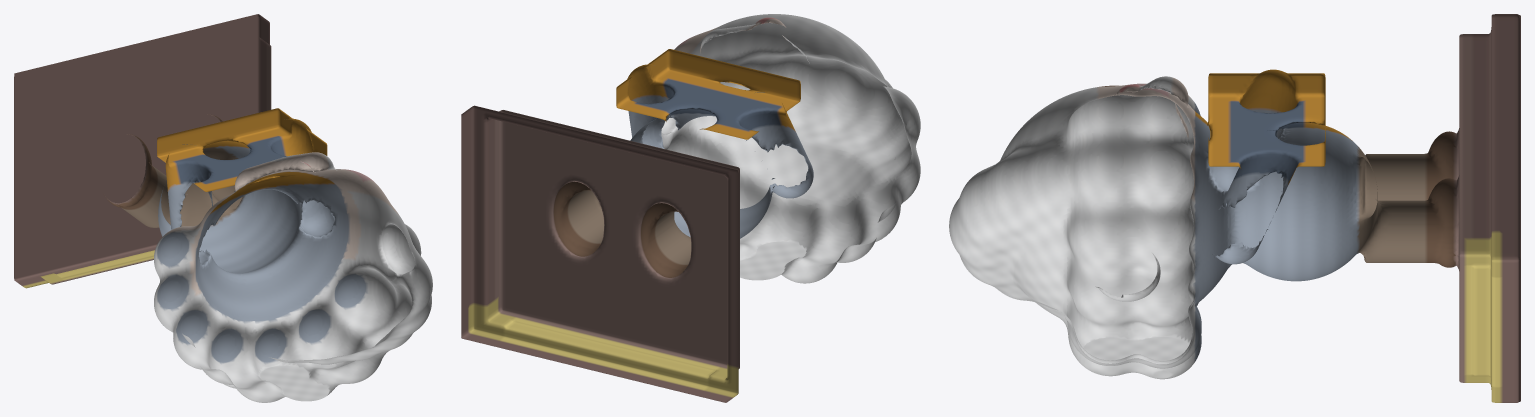
The model's file is einstein_chibi_colored.glb.
3 views of the same model, side by side, from view 1: azimuth 30°, elevation 25°; view 2: azimuth 150°, elevation 25°; view 3: azimuth 270°, elevation 25° (orthographic). The views are drawn at different scales.
Visible parts, largest first — view 1: Quantum_Einstein; view 2: Quantum_Einstein; view 3: Quantum_Einstein.
Part boxes in pixels (x1,y1,x2,y2): Quantum_Einstein: (14,14,432,402); Quantum_Einstein: (461,14,920,402); Quantum_Einstein: (949,14,1520,402).
Size of the model in its own units: 52.99 by 45.09 by 87.79.
